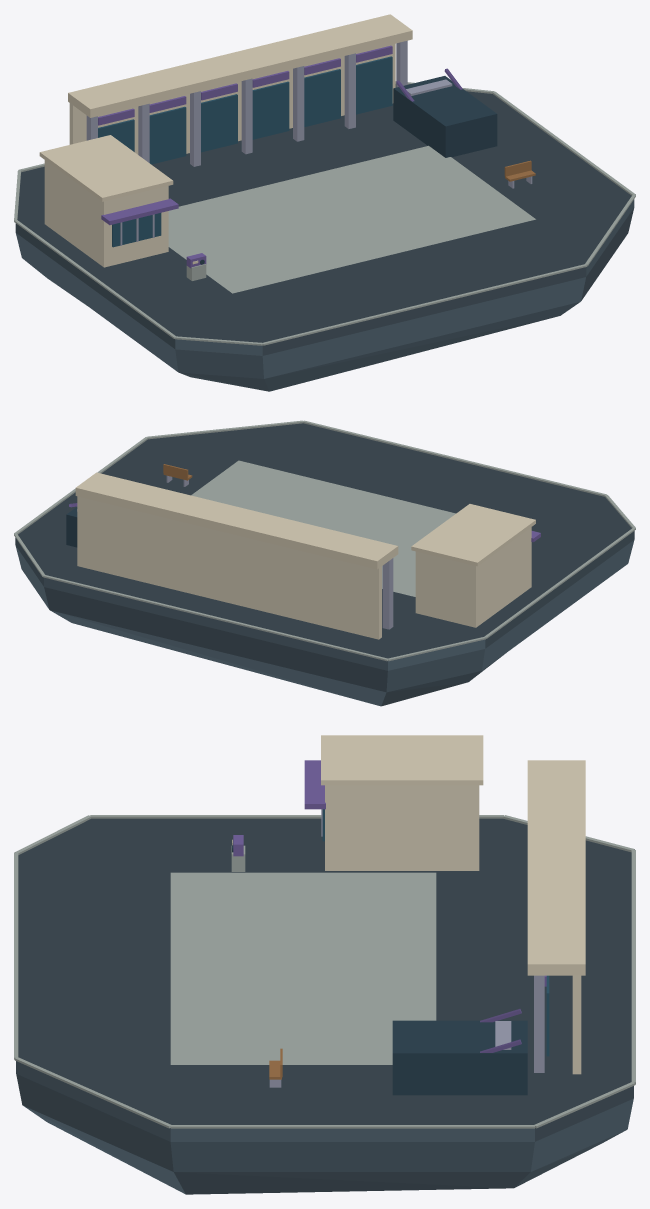
The model's file is fi07-closed-atrium.glb.
3 renders of one model, top to bottom at view 1: azimuth 30°, elevation 25°; view 2: azimuth 150°, elevation 25°; view 3: azimuth 270°, elevation 25°, orthographic. The views are drawn at different scales.
Parts seen in each view (by area): view 1: GEO_foundation, GEO_forecourt, LAND_0_arcade, LAND_1_shop, LAND_2_escalator, GEO_rim, PROP_bench; view 2: GEO_foundation, LAND_0_arcade, LAND_1_shop, GEO_forecourt, GEO_rim, LAND_2_escalator; view 3: GEO_foundation, GEO_forecourt, LAND_1_shop, LAND_0_arcade, LAND_2_escalator, GEO_rim.
Boxes of the visible parts, <box> form: GEO_foundation: <box>15,84,634,391</box>; GEO_forecourt: <box>168,145,535,293</box>; LAND_0_arcade: <box>68,14,412,166</box>; LAND_1_shop: <box>39,135,178,267</box>; LAND_2_escalator: <box>393,68,497,157</box>; GEO_rim: <box>14,81,635,345</box>; PROP_bench: <box>504,160,535,188</box>; GEO_foundation: <box>15,423,634,706</box>; LAND_0_arcade: <box>75,472,398,639</box>; LAND_1_shop: <box>411,504,540,627</box>; GEO_forecourt: <box>191,460,455,596</box>; GEO_rim: <box>14,420,635,661</box>; LAND_2_escalator: <box>66,503,77,547</box>; GEO_foundation: <box>16,818,633,1194</box>; GEO_forecourt: <box>170,872,436,1064</box>; LAND_1_shop: <box>304,735,483,870</box>; LAND_0_arcade: <box>527,760,585,1074</box>; LAND_2_escalator: <box>392,1009,527,1095</box>; GEO_rim: <box>14,815,635,1128</box>.
Size of the model in its own units: 38.22 by 11.02 by 32.22.
